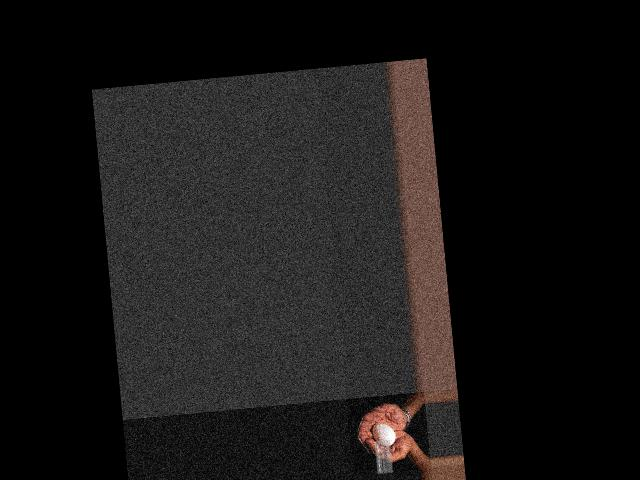egg: (371, 421, 396, 447)
